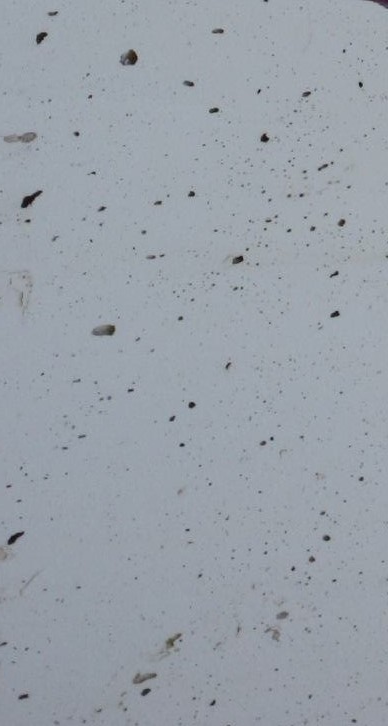Spalling: (1, 1, 388, 726)
